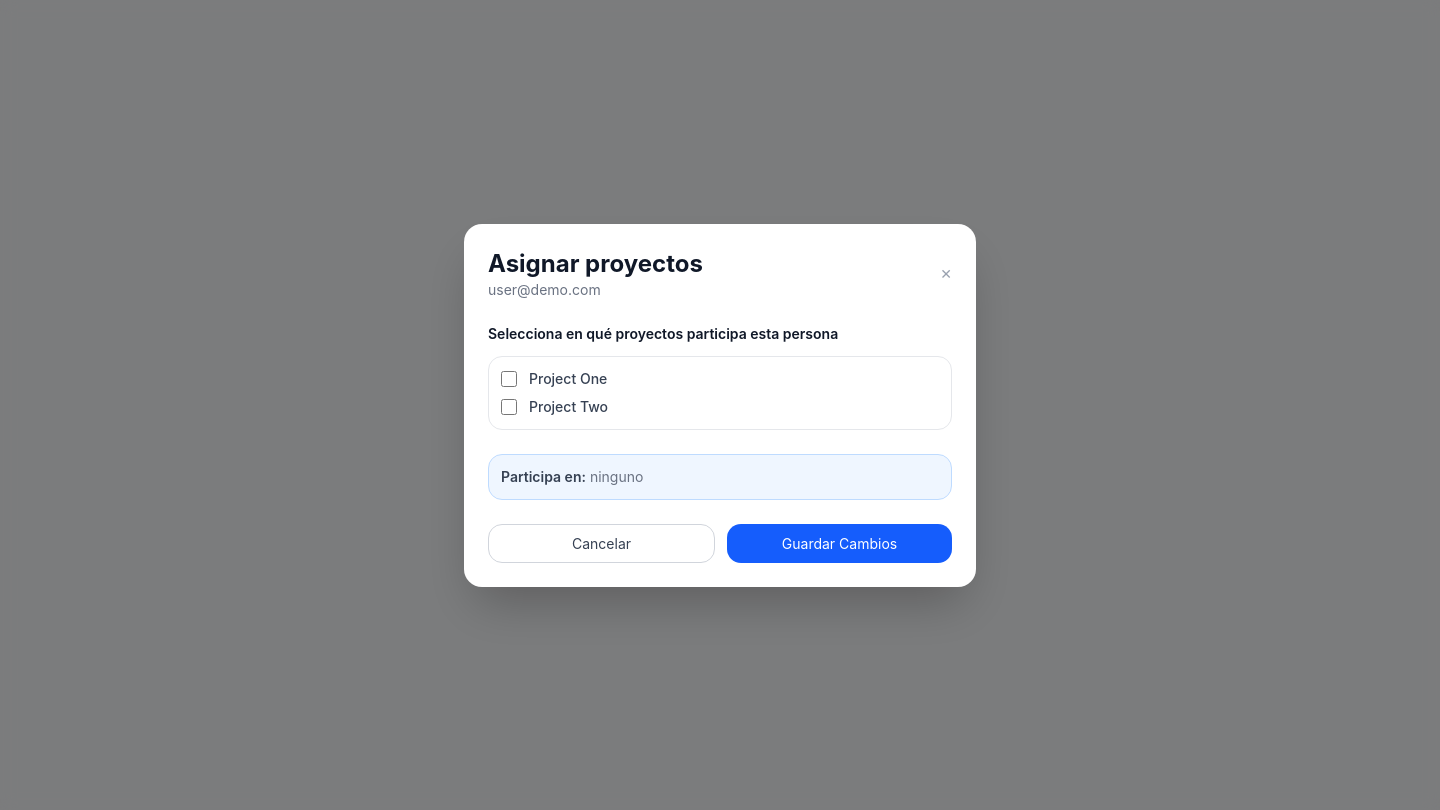
Scenario: EditMemberProjectsModal › shows error when save fails
The image size is (1440, 810).
Click the button "Guardar Cambios": (840, 543) [727,524,952,562]
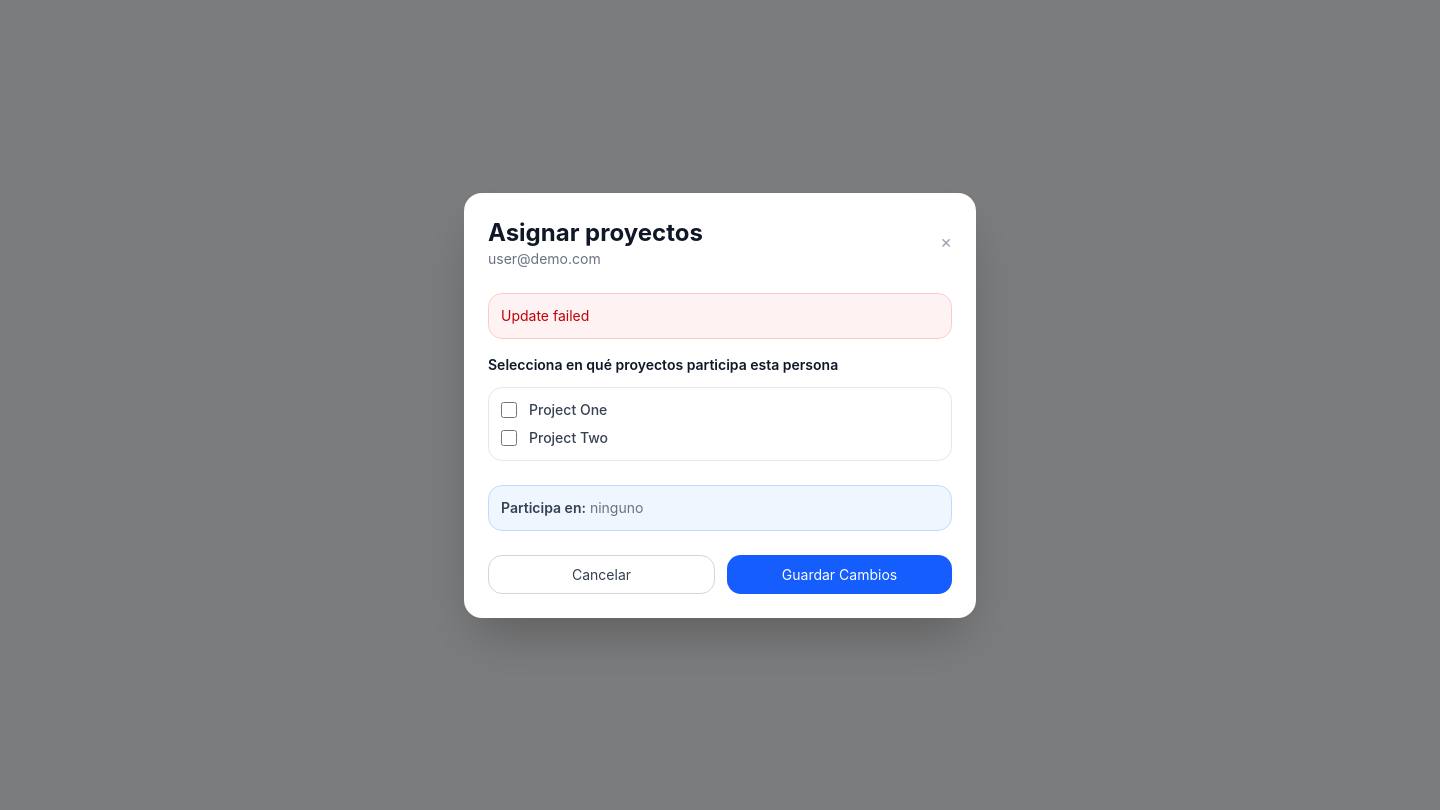
Expected: the text "Update failed" is shown, [488,292,952,338]
